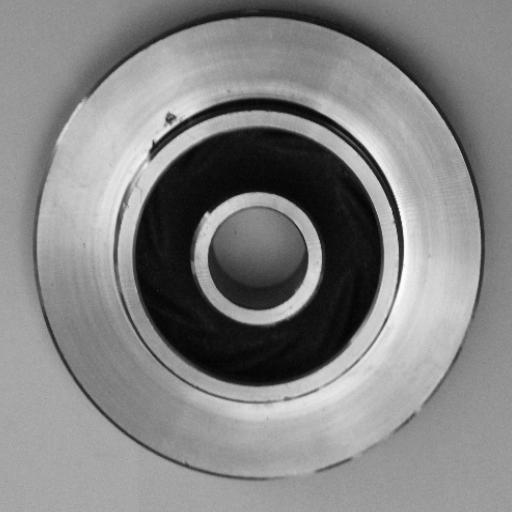crack: (154, 104, 185, 137)
polished_casting: (29, 12, 482, 480)
scratch: (114, 135, 160, 228)
